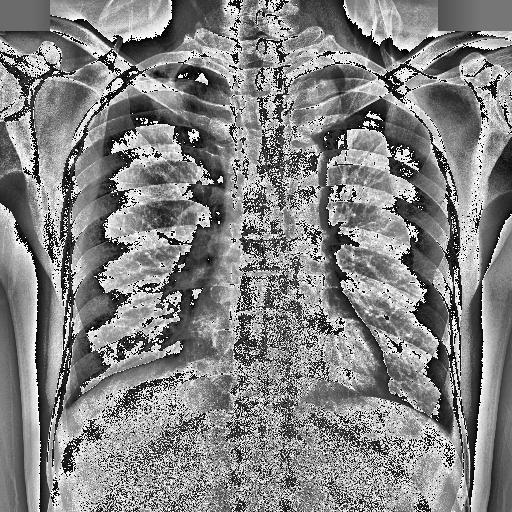0- Aortic enlargement: (254, 137, 327, 208)
10- Pleural effusion: (60, 399, 70, 418)
11- Pleural thickening: (130, 51, 204, 84), (136, 62, 214, 89), (132, 56, 194, 83), (60, 399, 70, 418)
13- Pulmonary fibrosis: (176, 70, 200, 110)
3- Cardiomegaly: (182, 312, 390, 398)
7- Lung Opacity: (281, 60, 342, 138), (300, 74, 338, 138)
8- Nodule-Mass: (299, 78, 342, 136), (109, 186, 114, 192)
